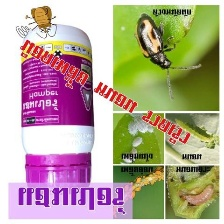insecticide: (14, 20, 98, 196)
